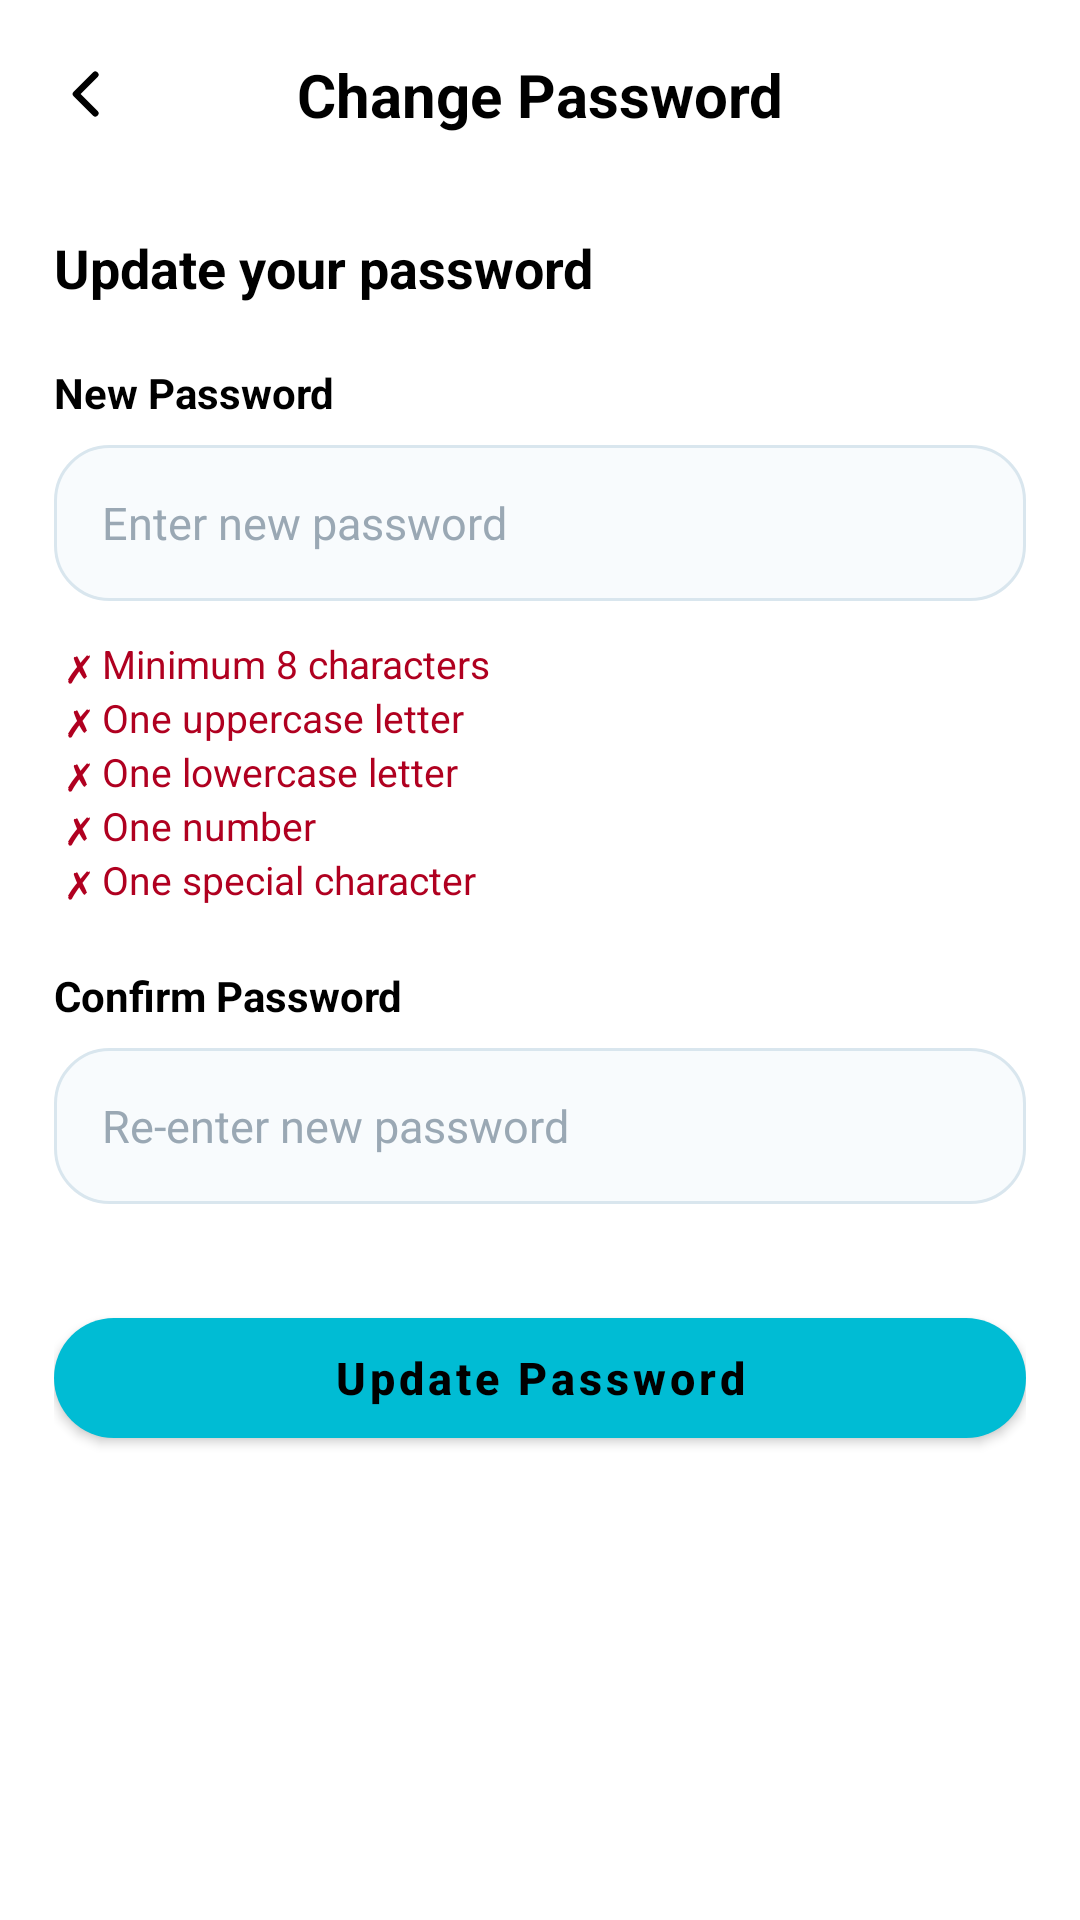

Icon bounding boxes for this 1080 × 1920 phone screenshot, format (x1, y1, x2, y2):
arrow back: (72, 71, 99, 117)
